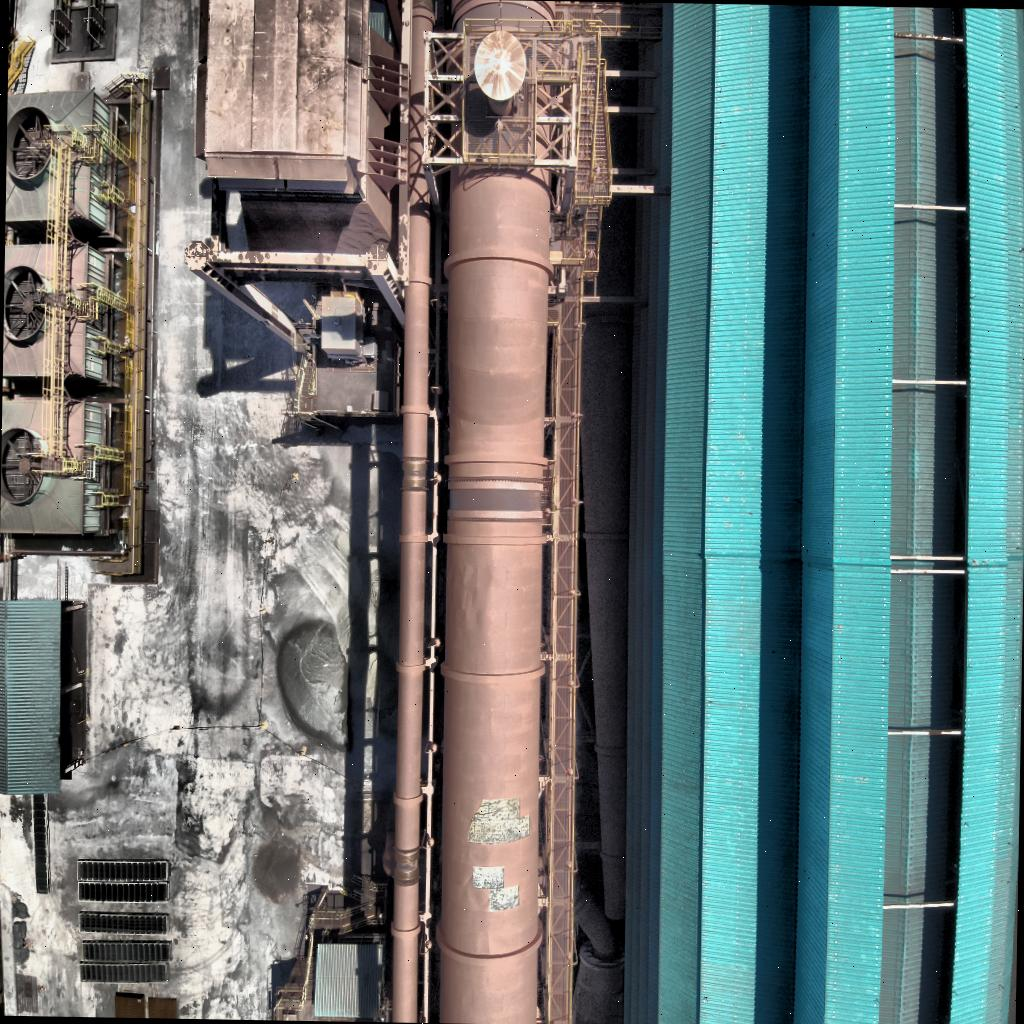Failures: (465, 794, 530, 848), (470, 863, 520, 914)
